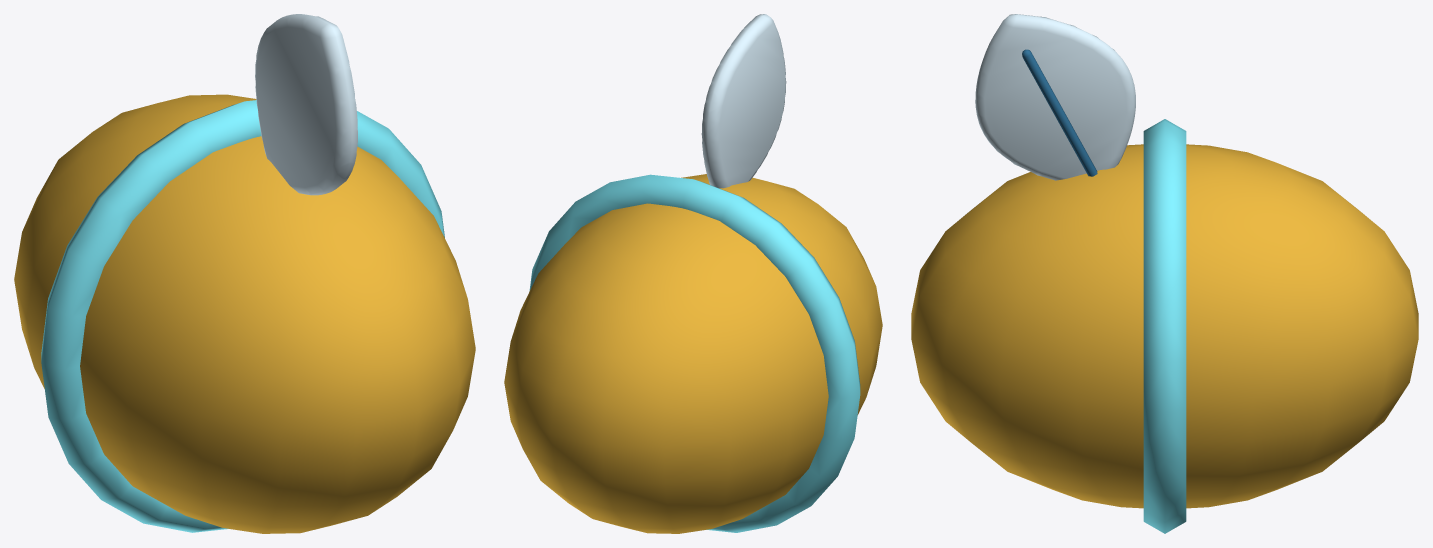
Rendered from Boss_Gardien_Glaciers_Glace_Projectile_Graine.fbx.
3 views of the same model, side by side, from view 1: azimuth 30°, elevation 25°; view 2: azimuth 150°, elevation 25°; view 3: azimuth 270°, elevation 25° (orthographic). The views are drawn at different scales.
Visible parts, largest first — view 1: Boss_Gardien_Glaciers_Glace_Projectile_Graine; view 2: Boss_Gardien_Glaciers_Glace_Projectile_Graine; view 3: Boss_Gardien_Glaciers_Glace_Projectile_Graine.
Boxes of the visible parts, x1=… form: Boss_Gardien_Glaciers_Glace_Projectile_Graine: x1=14, y1=14, x2=475, y2=533; Boss_Gardien_Glaciers_Glace_Projectile_Graine: x1=504, y1=14, x2=882, y2=533; Boss_Gardien_Glaciers_Glace_Projectile_Graine: x1=911, y1=14, x2=1418, y2=533.
Size of the model in its own units: 0.68 by 0.901 by 0.8272.
Materials: 1 (1 with a texture image).
